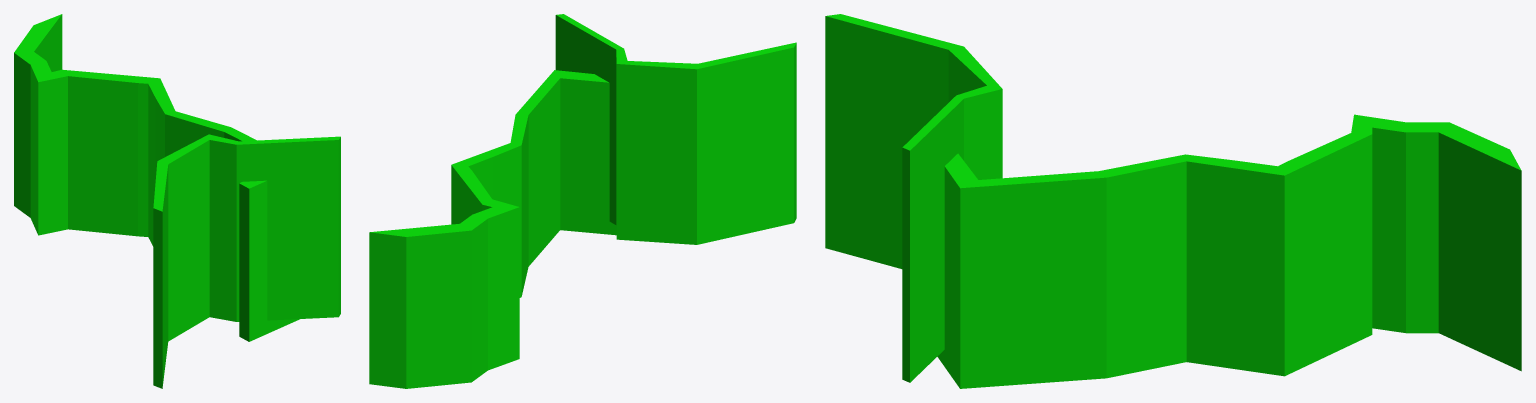
File: InvisibleWall_022.fbx
3 renders of one model, left to right at view 1: azimuth 30°, elevation 25°; view 2: azimuth 150°, elevation 25°; view 3: azimuth 270°, elevation 25°, orthographic. The views are drawn at different scales.
Parts seen in each view (by area): view 1: Designer126, Designer96; view 2: Designer126, Designer96; view 3: Designer126, Designer96.
Boxes of the visible parts, x1,y1,x2,y2 form: Designer126: (14, 14, 299, 341); Designer96: (153, 134, 340, 388); Designer126: (369, 70, 616, 388); Designer96: (555, 14, 796, 244); Designer126: (937, 114, 1521, 388); Designer96: (825, 14, 1002, 382).
Size of the model in its own units: 4200 by 3575 by 9038.
